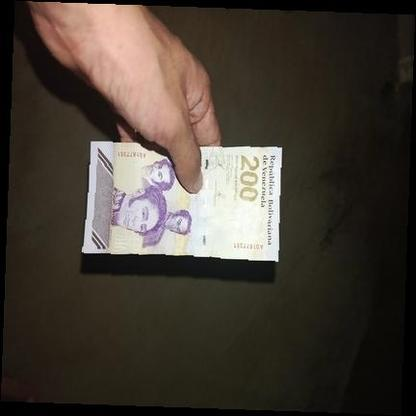two_hundred-front-vef: (80, 140, 284, 262)
